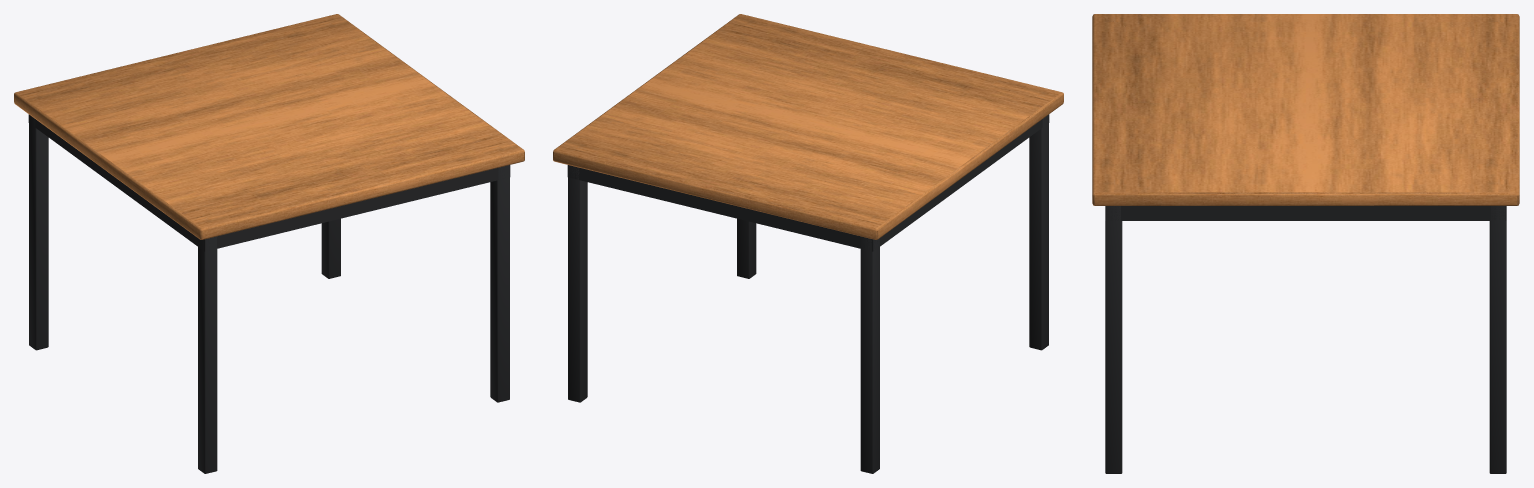
The model's file is kitchen.dining-table-4.glb.
3 views of the same model, side by side, from view 1: azimuth 30°, elevation 25°; view 2: azimuth 150°, elevation 25°; view 3: azimuth 270°, elevation 25° (orthographic). The views are drawn at different scales.
Visible parts, largest first — view 1: kitchen.dining-table-4.001; view 2: kitchen.dining-table-4.001; view 3: kitchen.dining-table-4.001.
Part boxes in pixels (x1=…): kitchen.dining-table-4.001: x1=14, y1=14, x2=524, y2=473; kitchen.dining-table-4.001: x1=553, y1=14, x2=1063, y2=473; kitchen.dining-table-4.001: x1=1092, y1=14, x2=1519, y2=473.
Bounding box in the file's own units: 1 × 0.74 × 1.
Materials: 2 (1 with a texture image).
